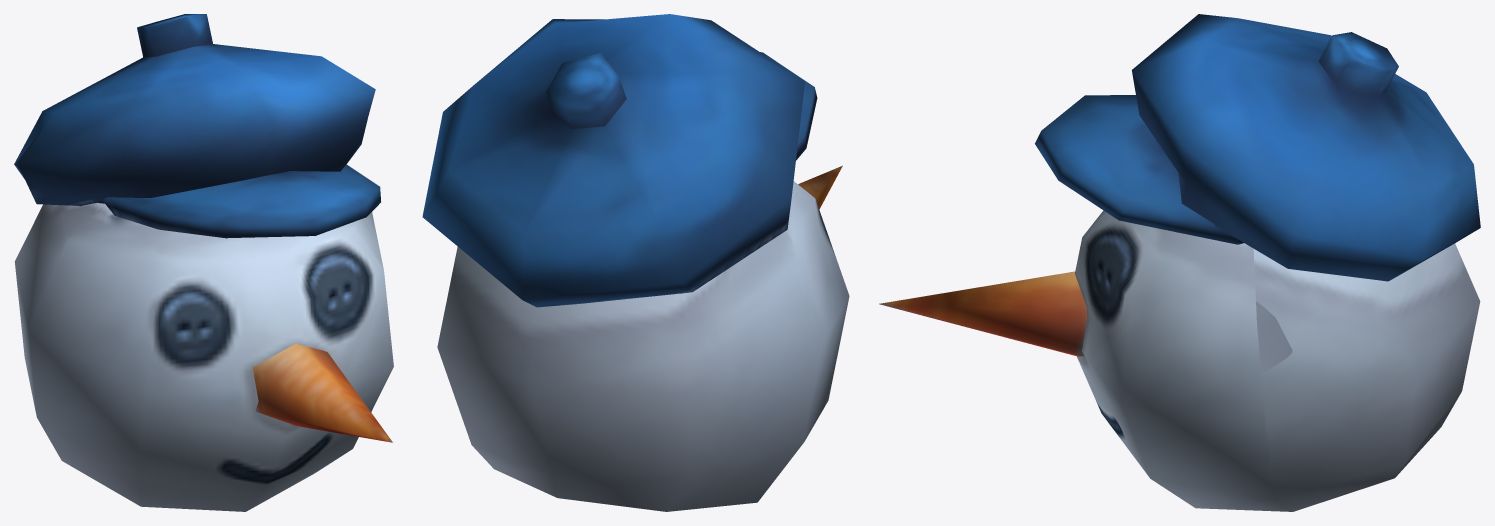
Rendered from snowman_mesh.fbx.
3 renders of one model, left to right at view 1: azimuth 30°, elevation 25°; view 2: azimuth 150°, elevation 25°; view 3: azimuth 270°, elevation 25°, orthographic. The views are drawn at different scales.
Visible parts, largest first — view 1: snowman_mesh; view 2: snowman_mesh; view 3: snowman_mesh.
Part boxes in pixels (box(x1,y1,x2,y2)): snowman_mesh: box(14, 14, 393, 511); snowman_mesh: box(422, 14, 849, 511); snowman_mesh: box(879, 14, 1480, 511).
Size of the model in its own units: 1.21 by 1.41 by 1.72.
